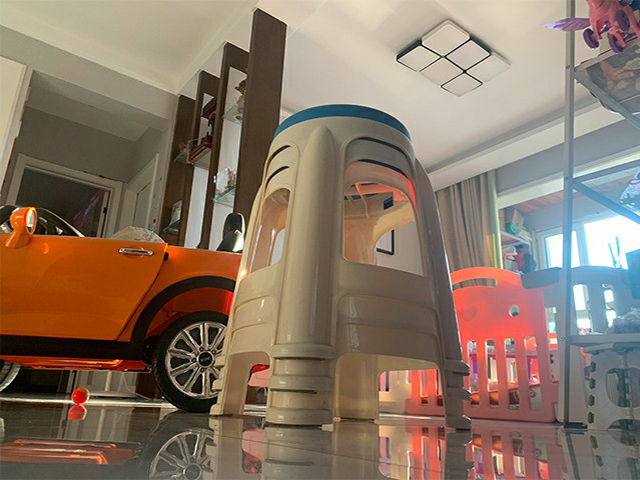stool: (207, 104, 473, 430)
